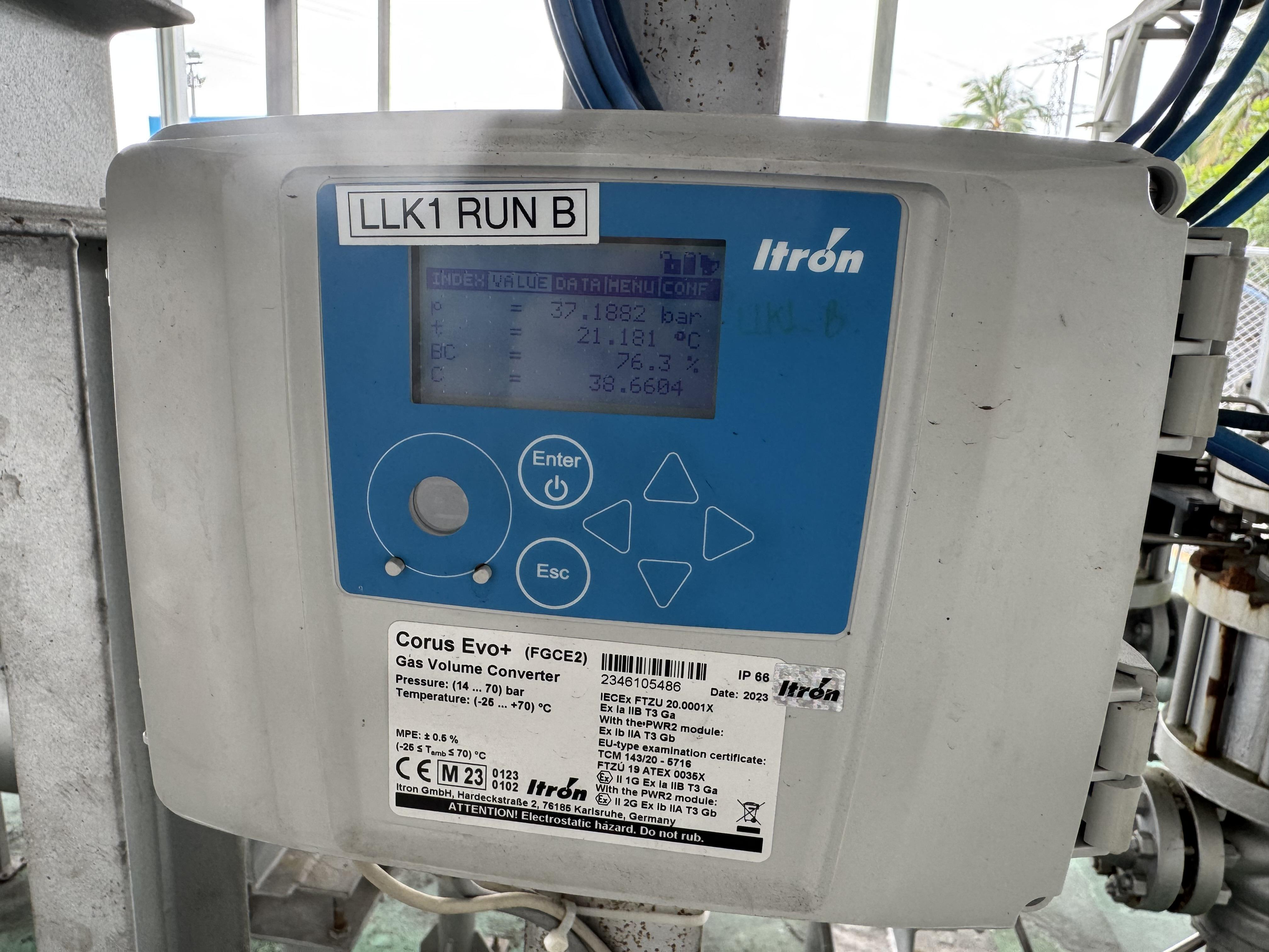digital_screen: (399, 223, 726, 420)
